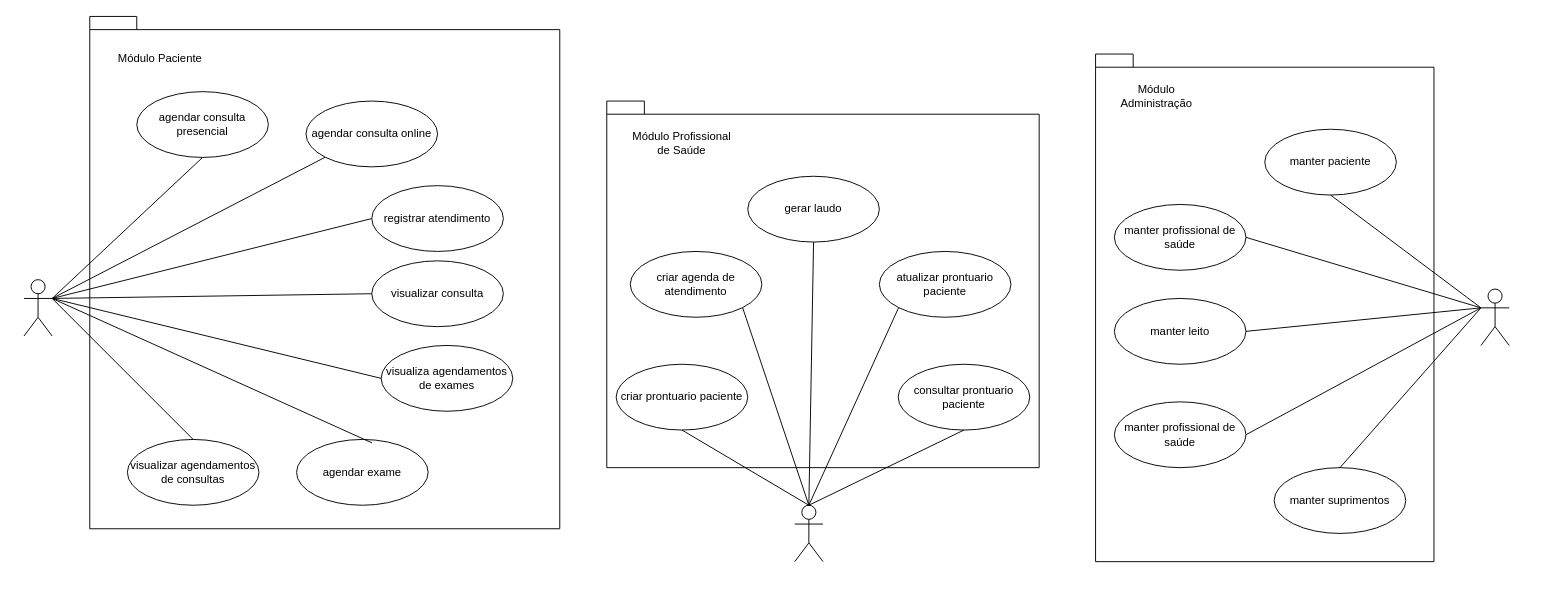
The diagram is 1546 pixels wide and 598 high, and some of its shapes have lost their labels. Here are the shapes that lost their labels. From the top down, the centre of each, then its label:
pixel 37 307: Paciente
pixel 1494 316: Administrador
pixel 808 533: Profissional de Saude
